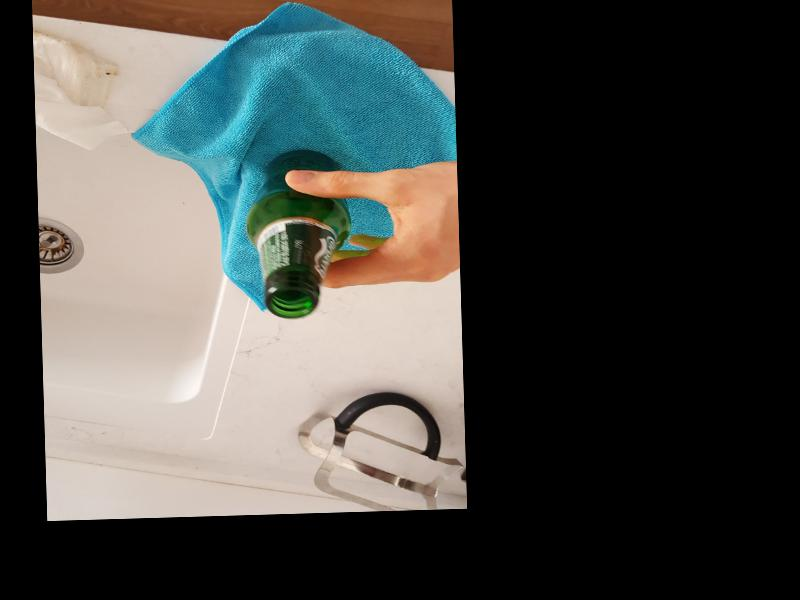Beer: (245, 147, 345, 317)
